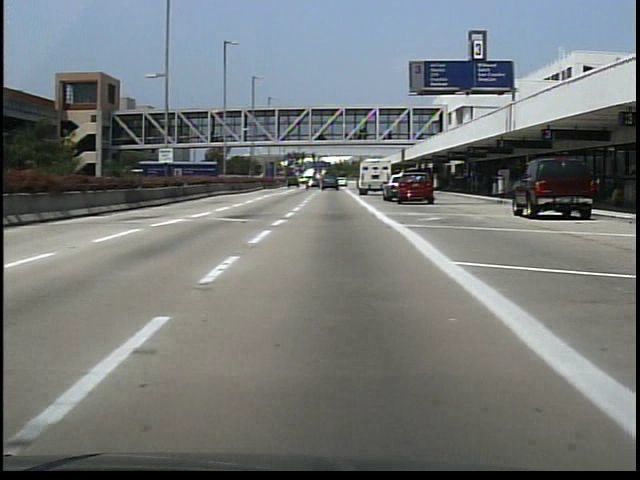person: (422, 172, 439, 204)
